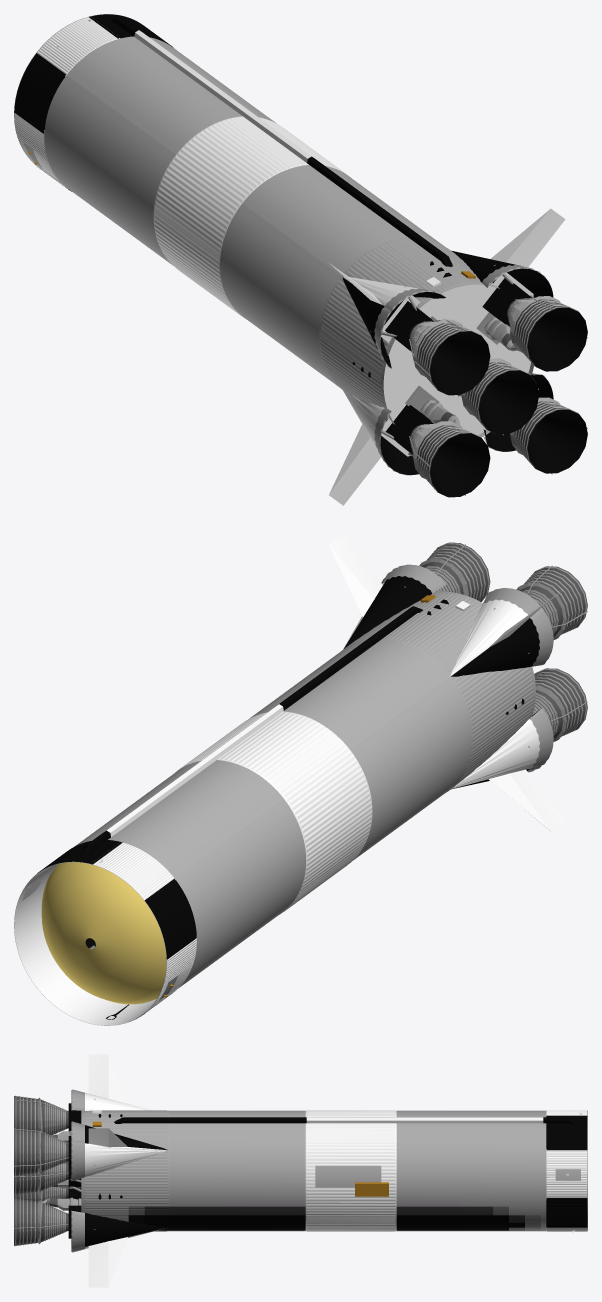
File: s1c_stretch240.obj
3 renders of one model, top to bottom at view 1: azimuth 30°, elevation 25°; view 2: azimuth 150°, elevation 25°; view 3: azimuth 270°, elevation 25°, orthographic. The views are drawn at different scales.
Parts seen in each view (by area): view 1: group461, group473, group31, group25, group29, group27, group33, group471, group17, group43, group19, group41 (+12 smaller); view 2: group461, group1772, group472, group41, group469, group1771, group1630, group17, group471, group19, group43, group1628 (+1 smaller); view 3: group461, group469, group41, group471, group1771, group43, group20, group1626, group1632, group18, group1630, group1634 (+3 smaller).
Boxes of the visible parts, box(x1,y1,x2,y2) form: group461: box(14, 14, 533, 437); group473: box(381, 272, 533, 456); group31: box(527, 409, 587, 473); group25: box(527, 307, 587, 371); group29: box(430, 331, 490, 395); group27: box(430, 433, 490, 497); group33: box(479, 370, 538, 434); group471: box(134, 30, 311, 162); group17: box(329, 424, 380, 505); group43: box(111, 17, 452, 266); group19: box(490, 208, 565, 267); group41: box(342, 250, 532, 375); group461: box(14, 591, 535, 1025); group1772: box(41, 862, 166, 1004); group472: box(14, 864, 156, 1025); group41: box(344, 576, 539, 789); group469: box(343, 582, 539, 788); group1771: box(381, 564, 553, 772); group1630: box(519, 566, 587, 636); group17: box(489, 769, 565, 831); group471: box(104, 704, 283, 836); group19: box(329, 534, 382, 616); group43: box(80, 606, 422, 856); group1628: box(533, 668, 587, 738); group461: box(81, 1110, 587, 1231); group469: box(85, 1092, 167, 1249); group41: box(85, 1125, 167, 1246); group471: box(306, 1117, 543, 1123); group1771: box(71, 1089, 84, 1252); group43: box(114, 1117, 577, 1123); group20: box(88, 1237, 127, 1287); group1626: box(14, 1129, 68, 1175); group1632: box(14, 1198, 68, 1245); group18: box(88, 1054, 127, 1103); group1630: box(14, 1096, 68, 1135); group1634: box(14, 1163, 68, 1194).
Bounding box in the file's own units: 14.72 × 14.72 × 48.03.
Materials: 13 (1 with a texture image).
